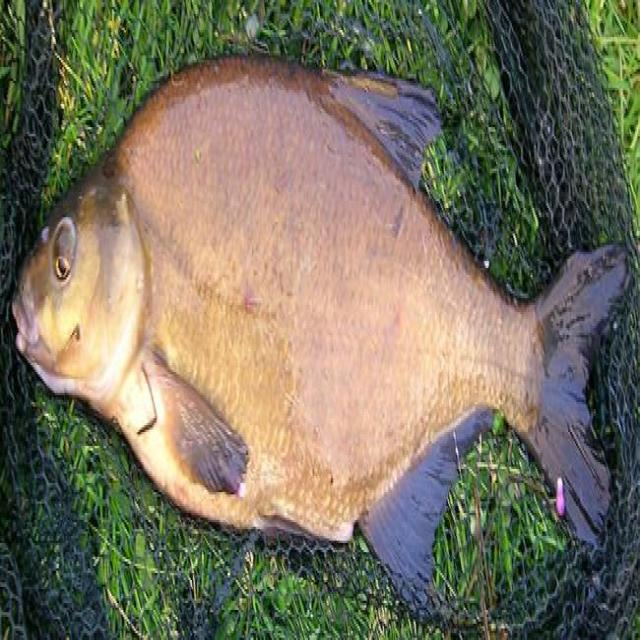ikan: (11, 46, 630, 612)
